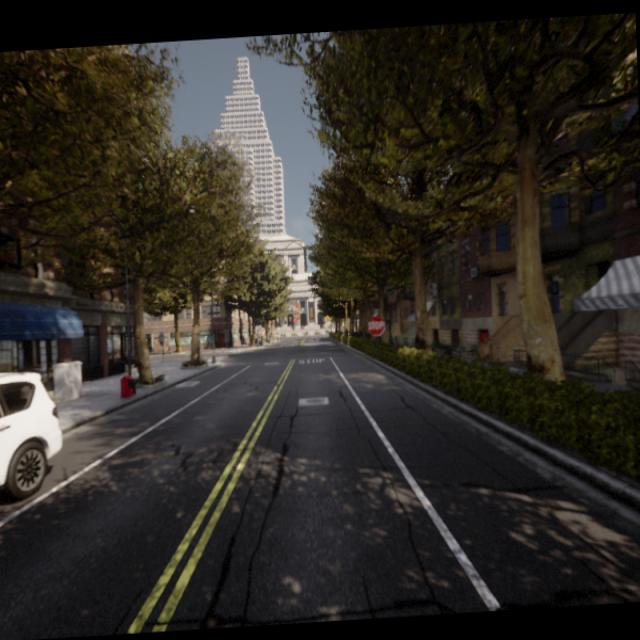stop sign: (365, 312, 386, 339)
